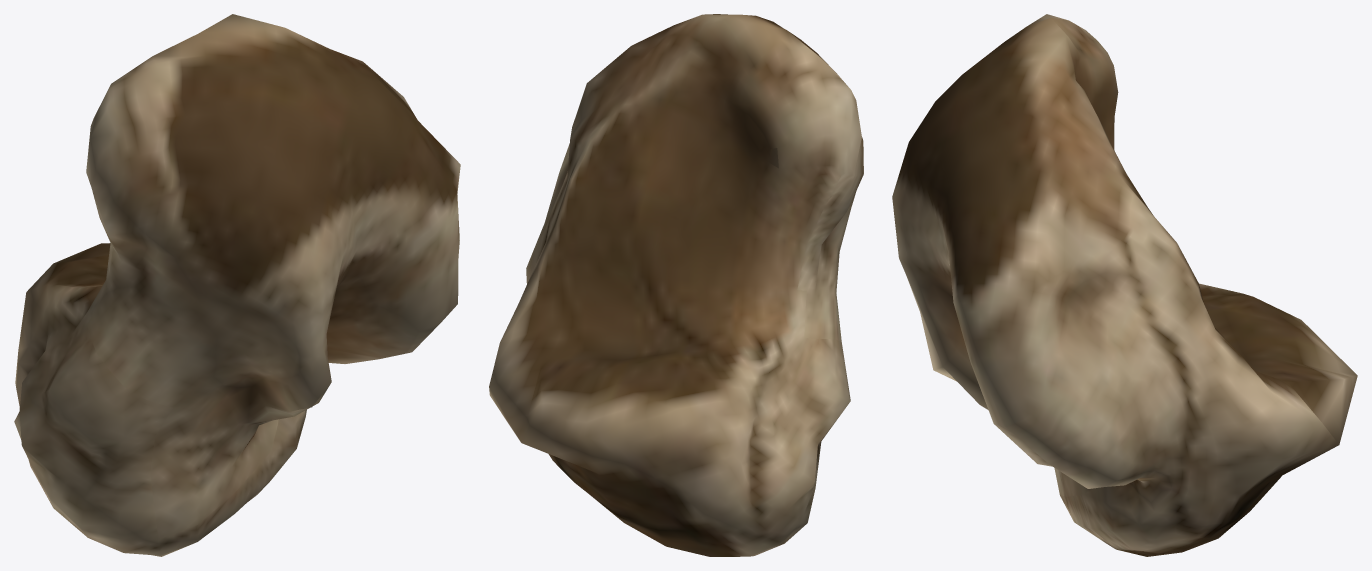
The model's file is Talus.glb.
3 renders of one model, left to right at view 1: azimuth 30°, elevation 25°; view 2: azimuth 150°, elevation 25°; view 3: azimuth 270°, elevation 25°, orthographic. The views are drawn at different scales.
Visible parts, largest first — view 1: L_Bck_Talus; view 2: L_Bck_Talus; view 3: L_Bck_Talus.
Boxes of the visible parts, bbox=[...] form: L_Bck_Talus: bbox=[14, 14, 460, 556]; L_Bck_Talus: bbox=[489, 14, 863, 556]; L_Bck_Talus: bbox=[892, 14, 1357, 556].
Size of the model in its own units: 0.0667 by 0.0966 by 0.0777.
Materials: 1 (1 with a texture image).
